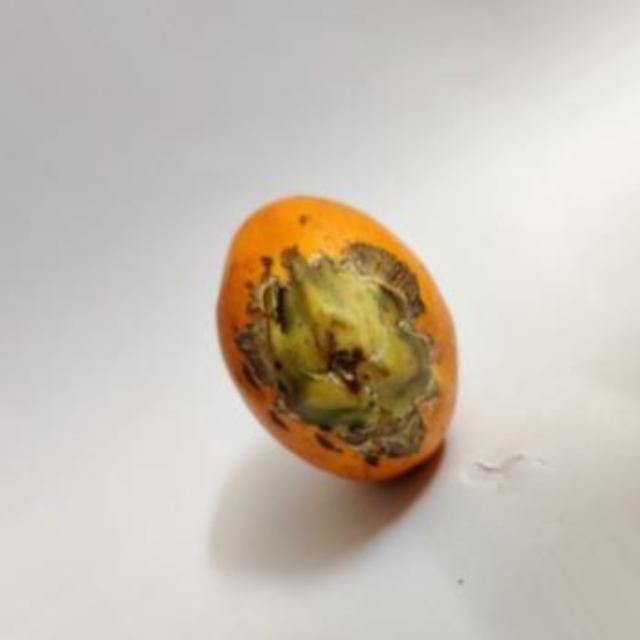good: (216, 196, 459, 486)
